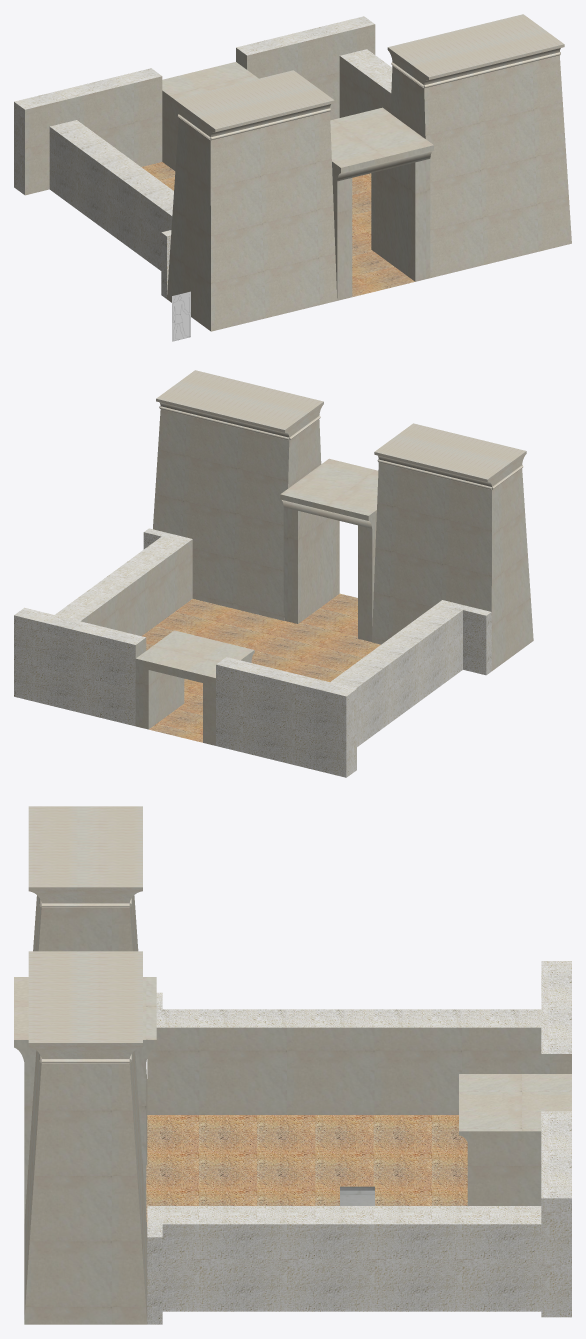
Rendered from Bakenrenef.glb.
3 views of the same model, one above another, from view 1: azimuth 30°, elevation 25°; view 2: azimuth 150°, elevation 25°; view 3: azimuth 270°, elevation 25° (orthographic). The views are drawn at different scales.
Parts seen in each view (by area): view 1: Mesh4 Model, Mesh1 Component_1_1 Model, Mesh2 Component_2_1 Model, Mesh3 Component_2_2 Model, Mesh5 Model; view 2: Mesh4 Model, Mesh1 Component_1_1 Model, Mesh2 Component_2_1 Model, Mesh3 Component_2_2 Model; view 3: Mesh4 Model, Mesh2 Component_2_1 Model, Mesh3 Component_2_2 Model, Mesh1 Component_1_1 Model.
Boxes of the visible parts, x1,y1,x2,y2 form: Mesh4 Model: [14, 16, 571, 331]; Mesh1 Component_1_1 Model: [330, 107, 433, 300]; Mesh2 Component_2_1 Model: [387, 14, 564, 88]; Mesh3 Component_2_2 Model: [174, 70, 334, 140]; Mesh5 Model: [172, 291, 190, 341]; Mesh4 Model: [14, 409, 533, 777]; Mesh1 Component_1_1 Model: [280, 458, 378, 641]; Mesh2 Component_2_1 Model: [156, 370, 323, 440]; Mesh3 Component_2_2 Model: [374, 423, 526, 489]; Mesh4 Model: [24, 895, 571, 1324]; Mesh2 Component_2_1 Model: [28, 951, 142, 1063]; Mesh3 Component_2_2 Model: [28, 806, 142, 907]; Mesh1 Component_1_1 Model: [14, 977, 156, 1223].
Size of the model in its own units: 14.68 by 7.09 by 12.74.
Materials: 7 (6 with a texture image).
